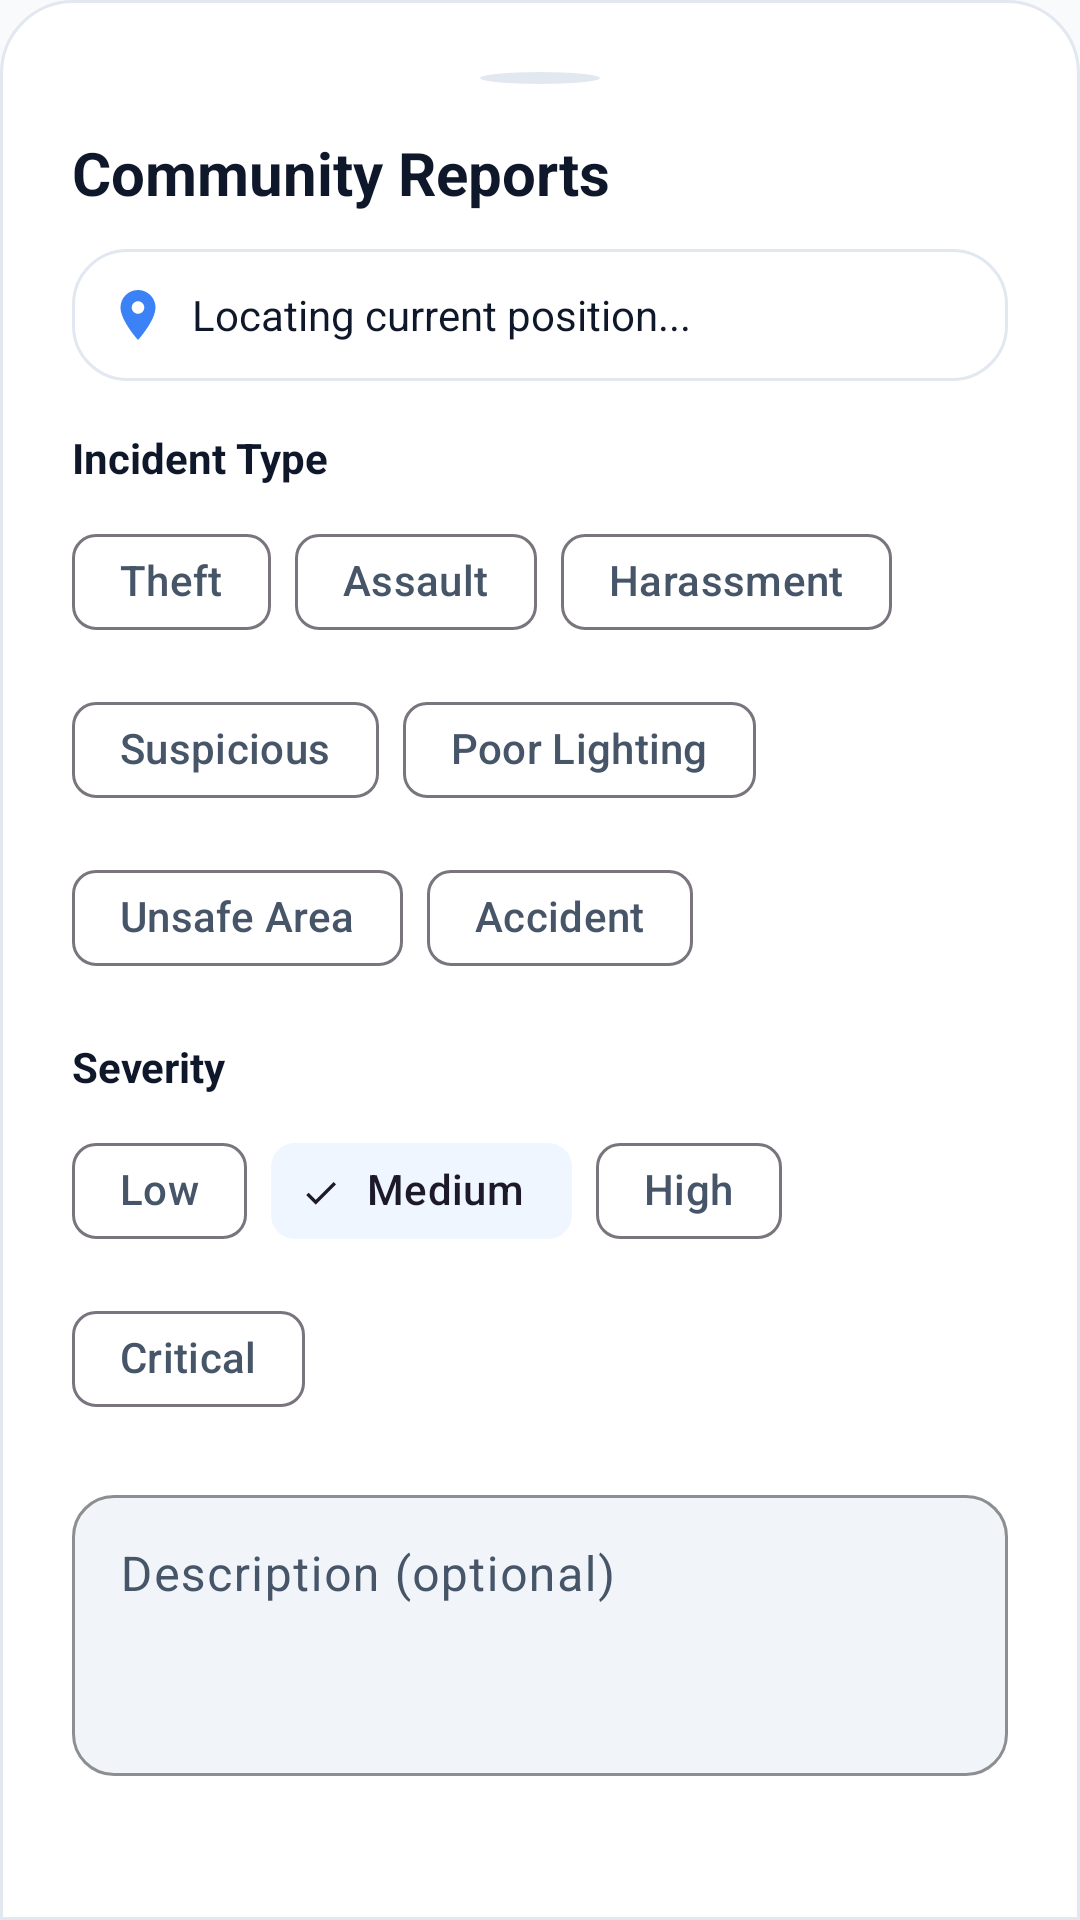

Icons on this 1080*1920 Android screen, each with the point to tap as [x,y]:
location pin: [138,315]
